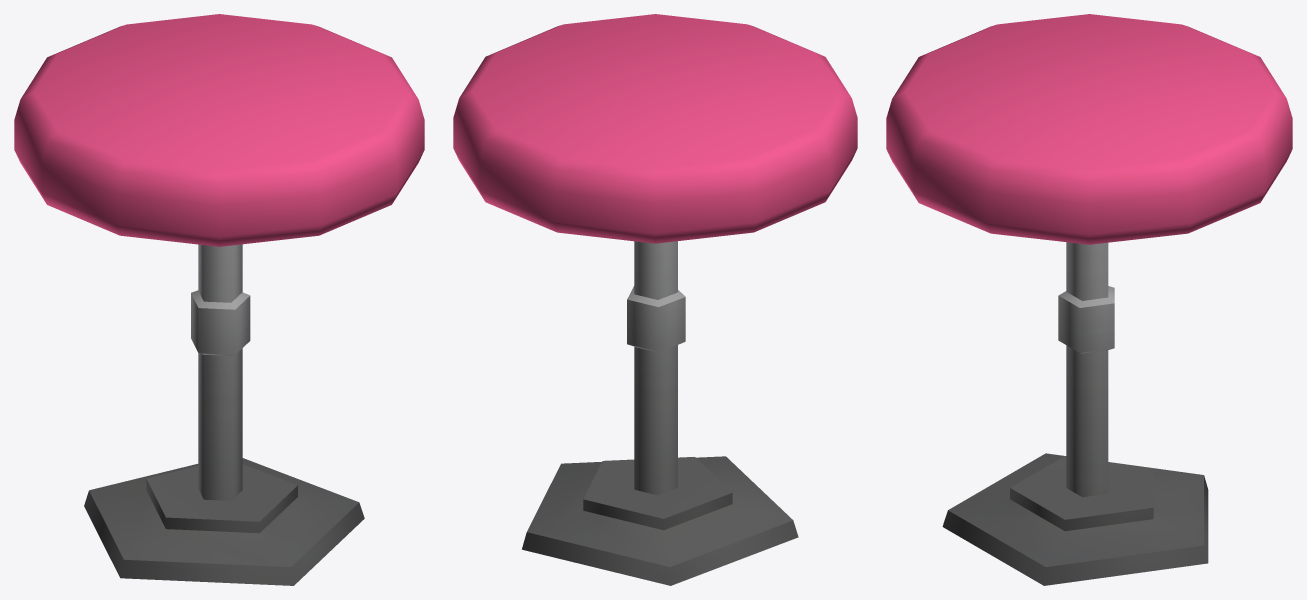
File: Chair_3_E.fbx
3 views of the same model, side by side, from view 1: azimuth 30°, elevation 25°; view 2: azimuth 150°, elevation 25°; view 3: azimuth 270°, elevation 25° (orthographic).
Visible parts, largest first — view 1: Chair_3_E; view 2: Chair_3_E; view 3: Chair_3_E.
Part boxes in pixels (x1=…): Chair_3_E: x1=14, y1=14, x2=424, y2=585; Chair_3_E: x1=453, y1=14, x2=857, y2=585; Chair_3_E: x1=886, y1=14, x2=1292, y2=585.
Size of the model in its own units: 50.02 by 59.1 by 50.04.
